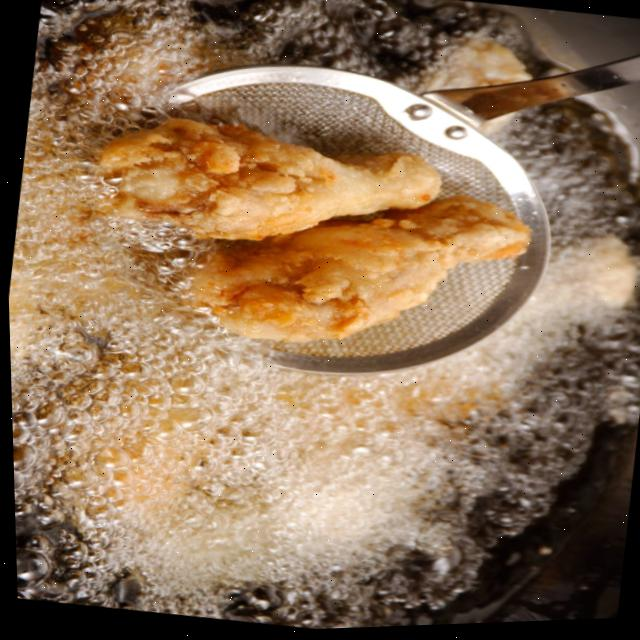Wet: (179, 160, 546, 380), (74, 92, 456, 280)
